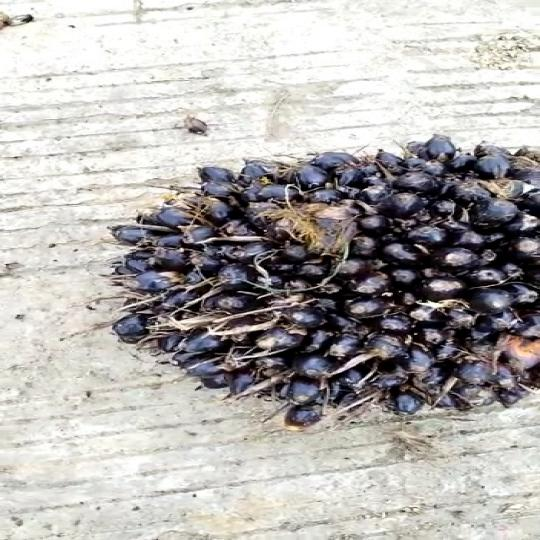mentah: (93, 115, 540, 437)
